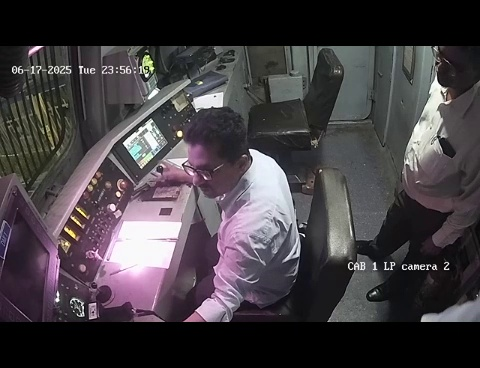horn_inactive: (79, 269, 126, 315)
